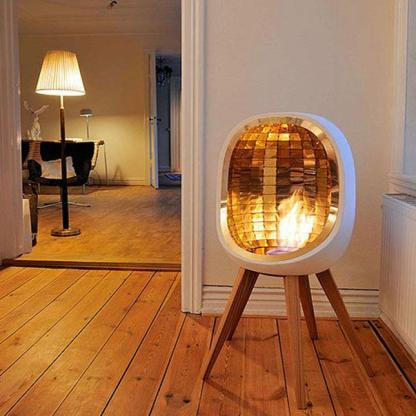fire: (277, 197, 315, 250)
